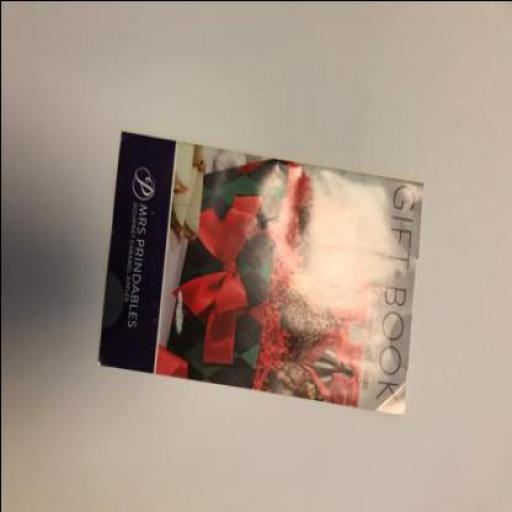paper: (97, 129, 424, 415)
